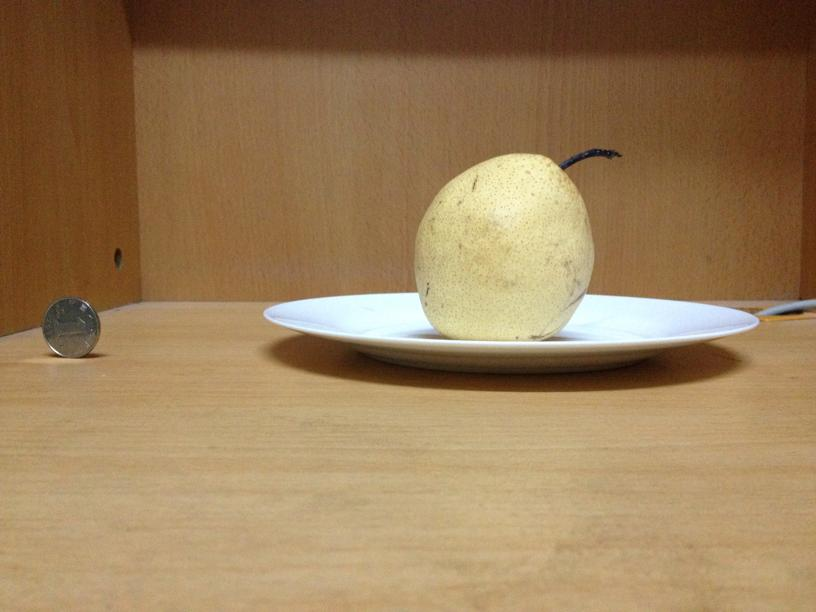coin: (43, 292, 101, 358)
pear: (414, 140, 626, 342)
